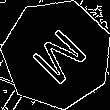M_SE: (22, 20, 91, 88)
